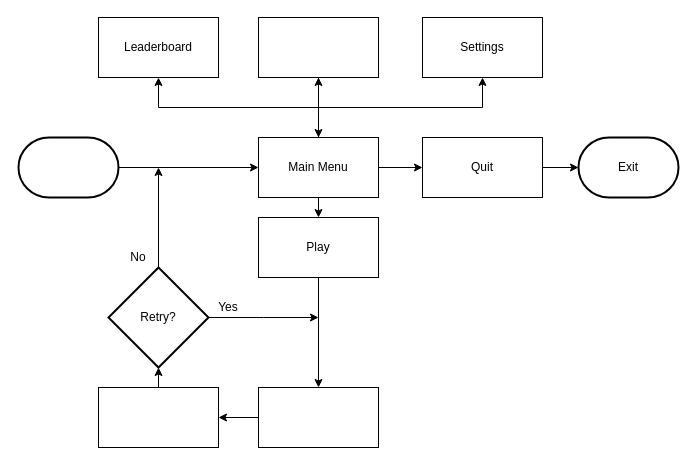
Image size: 696x465. Some labels were removed from this diagram. The shapes that lost their labels are listed below. From the top down, each one's box as (x1, y1, x2, y2) in pixels, then its label:
(258, 16, 378, 78): Achievement
(17, 136, 119, 198): Start
(98, 386, 218, 448): Player Lost
(258, 386, 378, 448): Game Process
